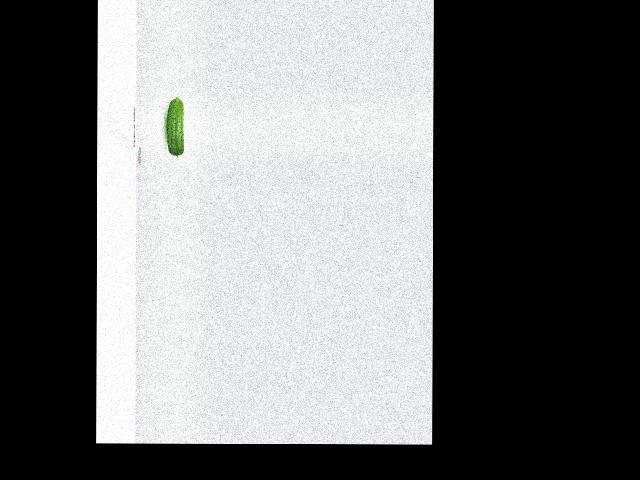cucumber: (166, 96, 184, 157)
